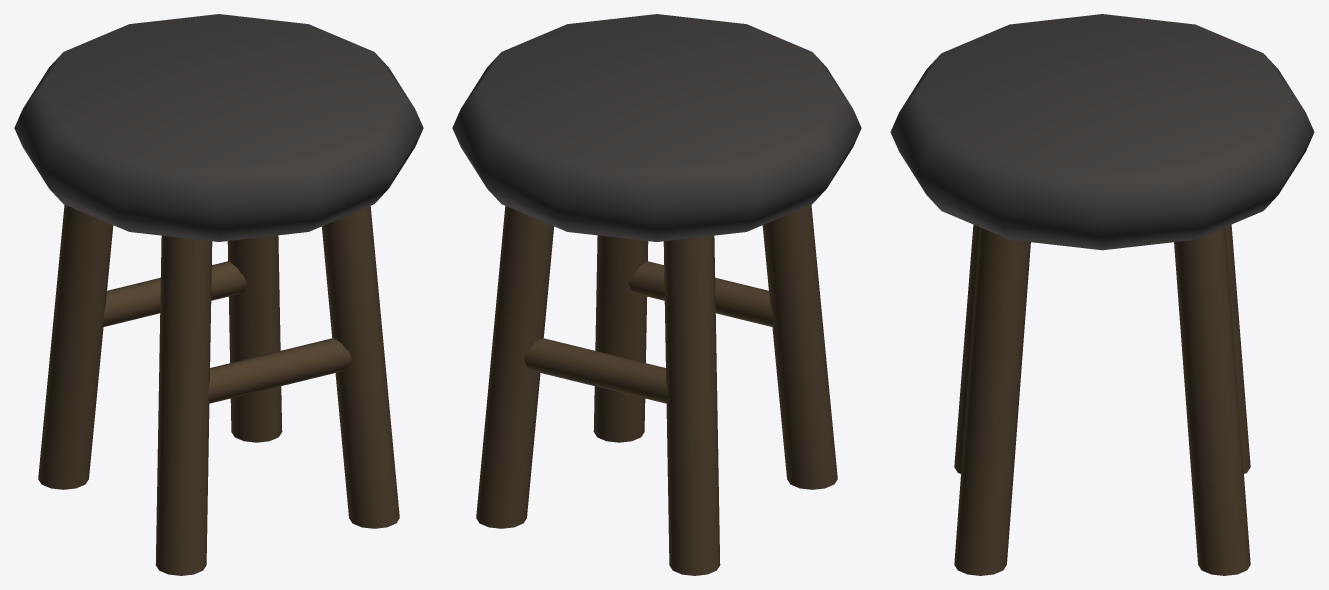
The model's file is PS_Barstool.fbx.
3 views of the same model, side by side, from view 1: azimuth 30°, elevation 25°; view 2: azimuth 150°, elevation 25°; view 3: azimuth 270°, elevation 25° (orthographic). The views are drawn at different scales.
Parts seen in each view (by area): view 1: PS_Barstool; view 2: PS_Barstool; view 3: PS_Barstool.
Part boxes in pixels (bbox=[...]): PS_Barstool: bbox=[14, 14, 423, 575]; PS_Barstool: bbox=[452, 14, 861, 575]; PS_Barstool: bbox=[890, 14, 1314, 575].
Bounding box in the file's own units: 0.4993 × 0.55 × 0.4993.
